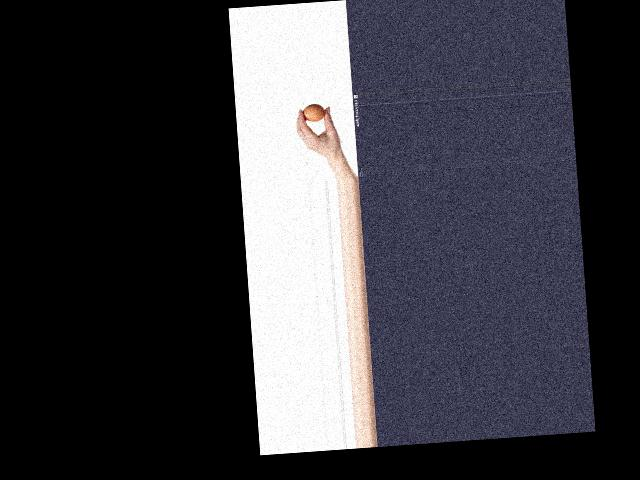egg: (302, 103, 325, 123)
